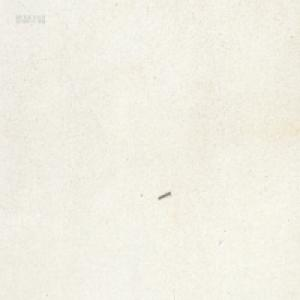Bolt: (157, 189, 170, 199)
